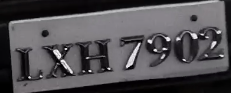LXH7902: (4, 3, 228, 91)
